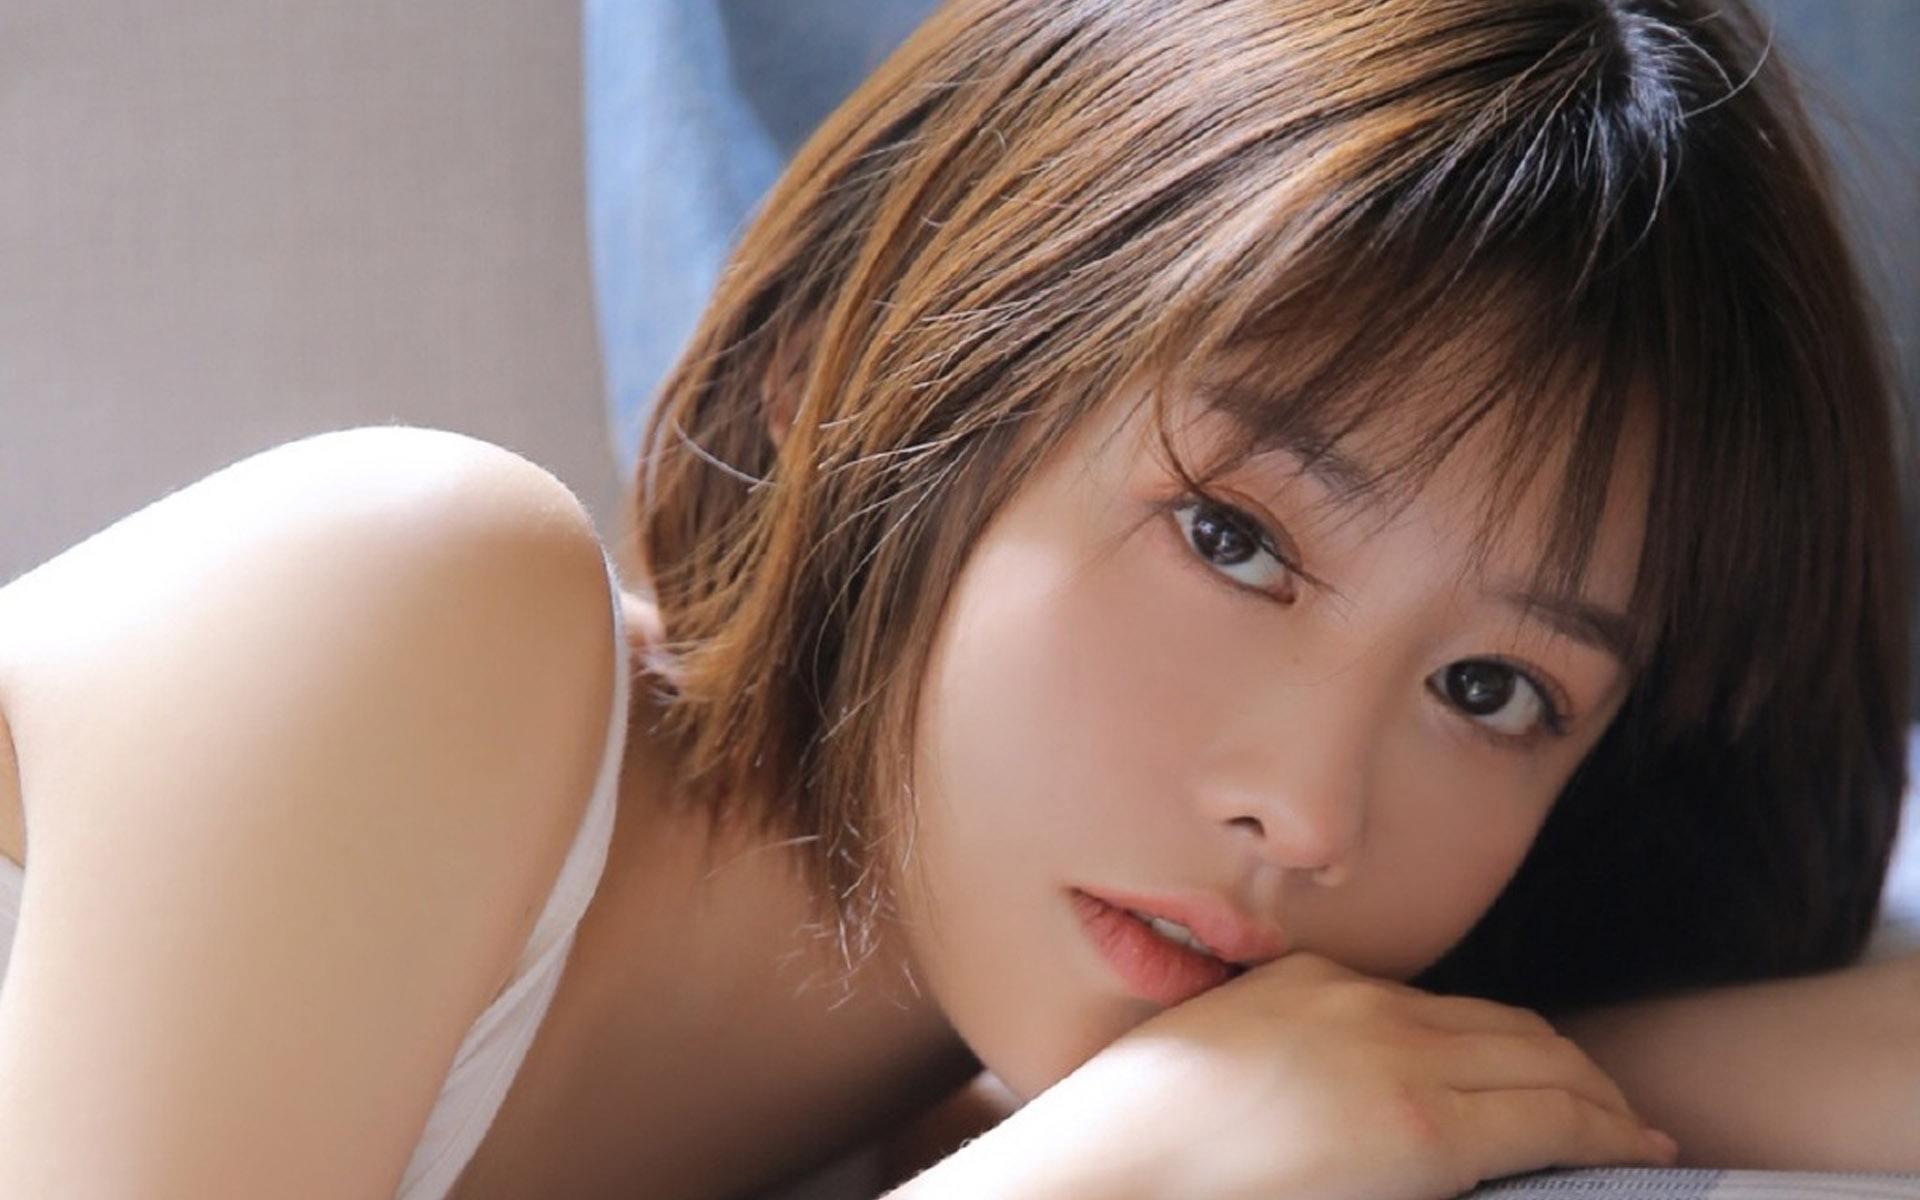person: (579, 62, 1793, 1162)
